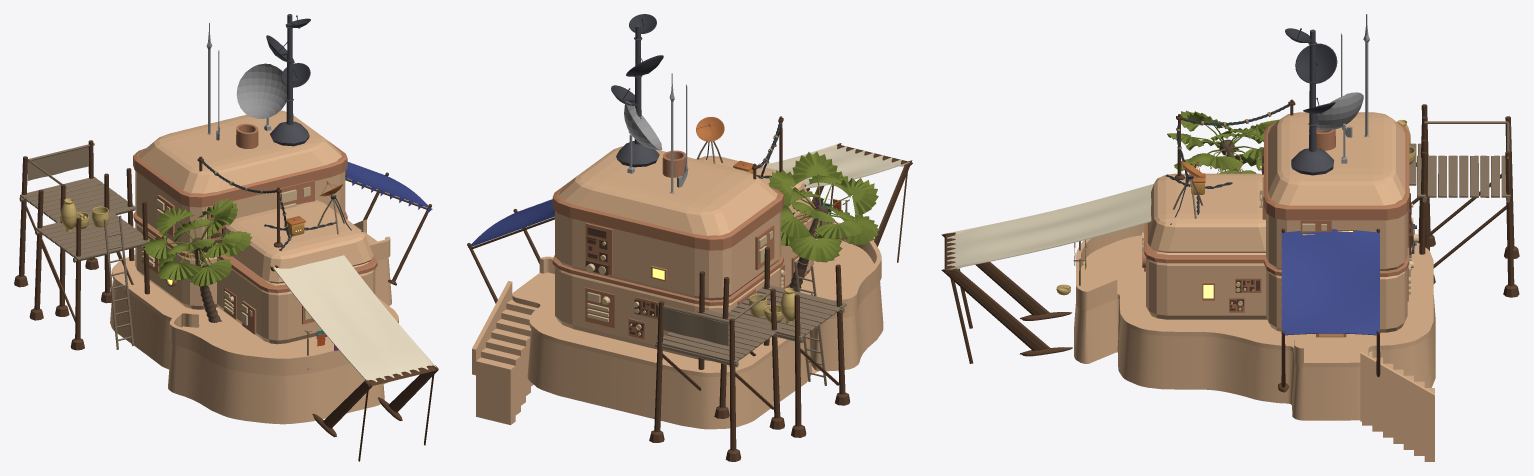
Rendered from nomad_building_b29.fbx.
3 renders of one model, left to right at view 1: azimuth 30°, elevation 25°; view 2: azimuth 150°, elevation 25°; view 3: azimuth 270°, elevation 25°, orthographic. The views are drawn at different scales.
Parts seen in each view (by area): view 1: NomadBuilding_B29; view 2: NomadBuilding_B29; view 3: NomadBuilding_B29.
Boxes of the visible parts, x1,y1,x2,y2 form: NomadBuilding_B29: (14, 14, 438, 461); NomadBuilding_B29: (467, 14, 912, 461); NomadBuilding_B29: (941, 14, 1519, 461).
Size of the model in its own units: 2862 by 2831 by 3871.
